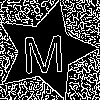M: (21, 26, 66, 74)
